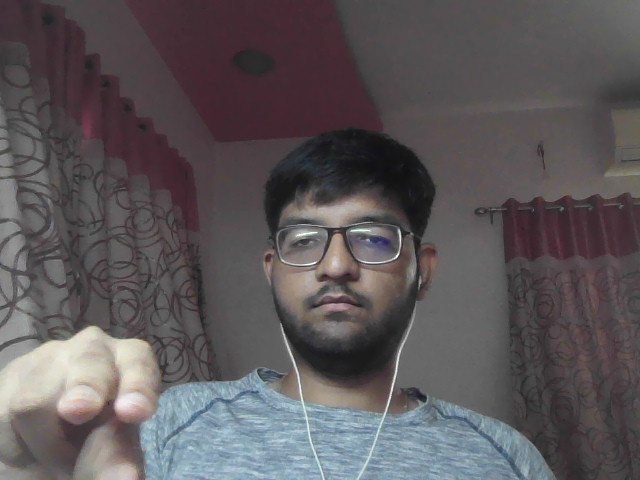ના: (1, 309, 164, 480)
